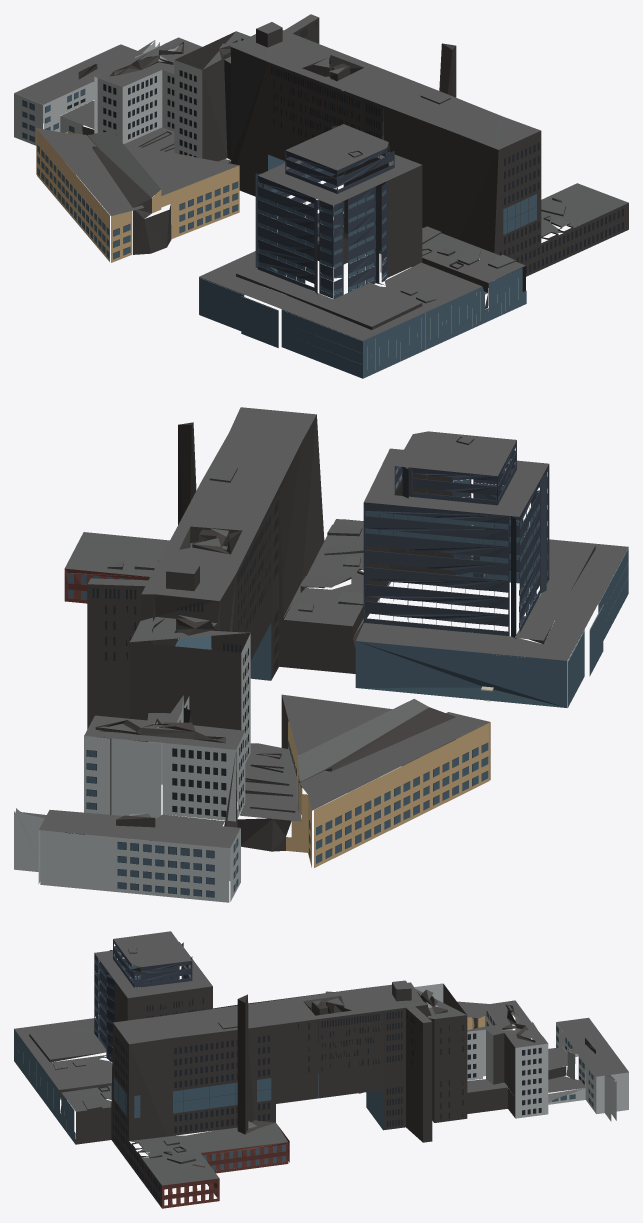
The model's file is roeterseiland-rec-a.lod1.glb.
3 renders of one model, top to bottom at view 1: azimuth 30°, elevation 25°; view 2: azimuth 150°, elevation 25°; view 3: azimuth 270°, elevation 25°, orthographic. The views are drawn at different scales.
Parts seen in each view (by area): view 1: roeterseiland-rec-a; view 2: roeterseiland-rec-a; view 3: roeterseiland-rec-a.
Part boxes in pixels (bbox=[...]): roeterseiland-rec-a: bbox=[14, 14, 628, 378]; roeterseiland-rec-a: bbox=[14, 407, 628, 902]; roeterseiland-rec-a: bbox=[14, 931, 628, 1208].
Bounding box in the file's own units: 143 × 59.23 × 210.
